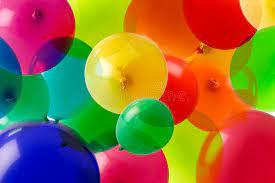Balloon: (86, 33, 168, 113), (1, 122, 101, 183), (195, 109, 275, 183), (1, 1, 76, 75), (183, 1, 255, 49), (116, 97, 175, 155), (1, 38, 21, 124)
